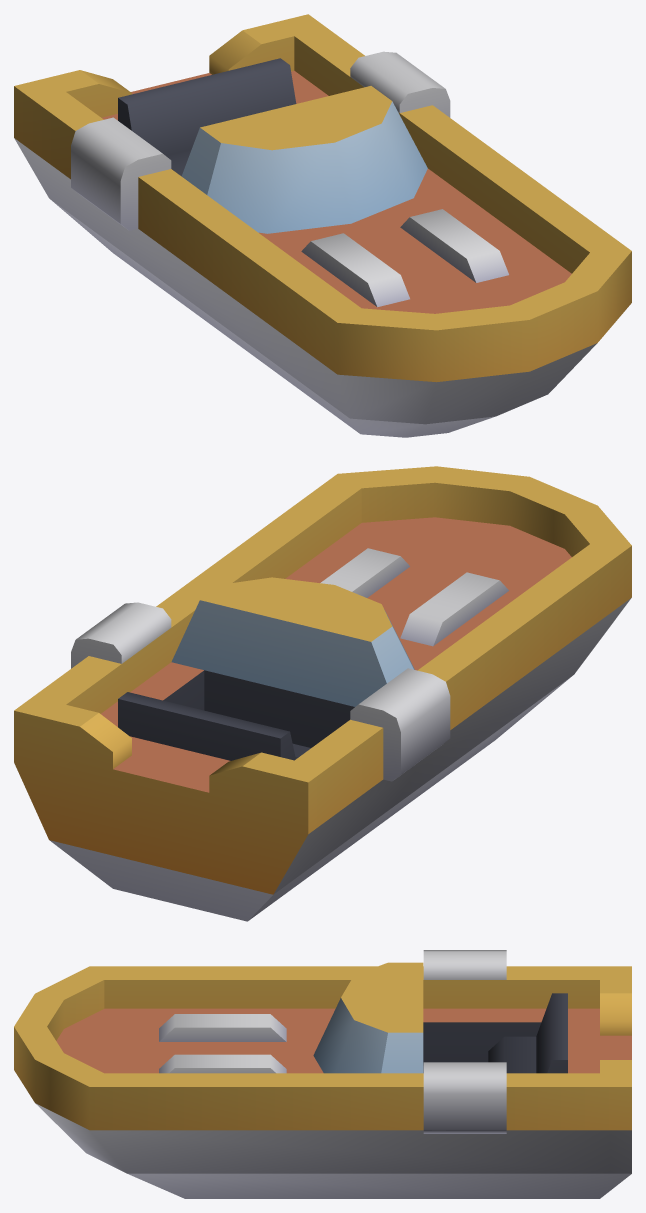
Rendered from boat-speed-d.glb.
3 views of the same model, one above another, from view 1: azimuth 30°, elevation 25°; view 2: azimuth 150°, elevation 25°; view 3: azimuth 270°, elevation 25° (orthographic). The views are drawn at different scales.
Parts seen in each view (by area): view 1: boat-speed-d; view 2: boat-speed-d; view 3: boat-speed-d.
Boxes of the visible parts, <box> form: boat-speed-d: <box>14,14,631,437</box>; boat-speed-d: <box>14,466,631,921</box>; boat-speed-d: <box>14,950,631,1198</box>.
Size of the model in its own units: 2 by 1.2 by 3.87.
